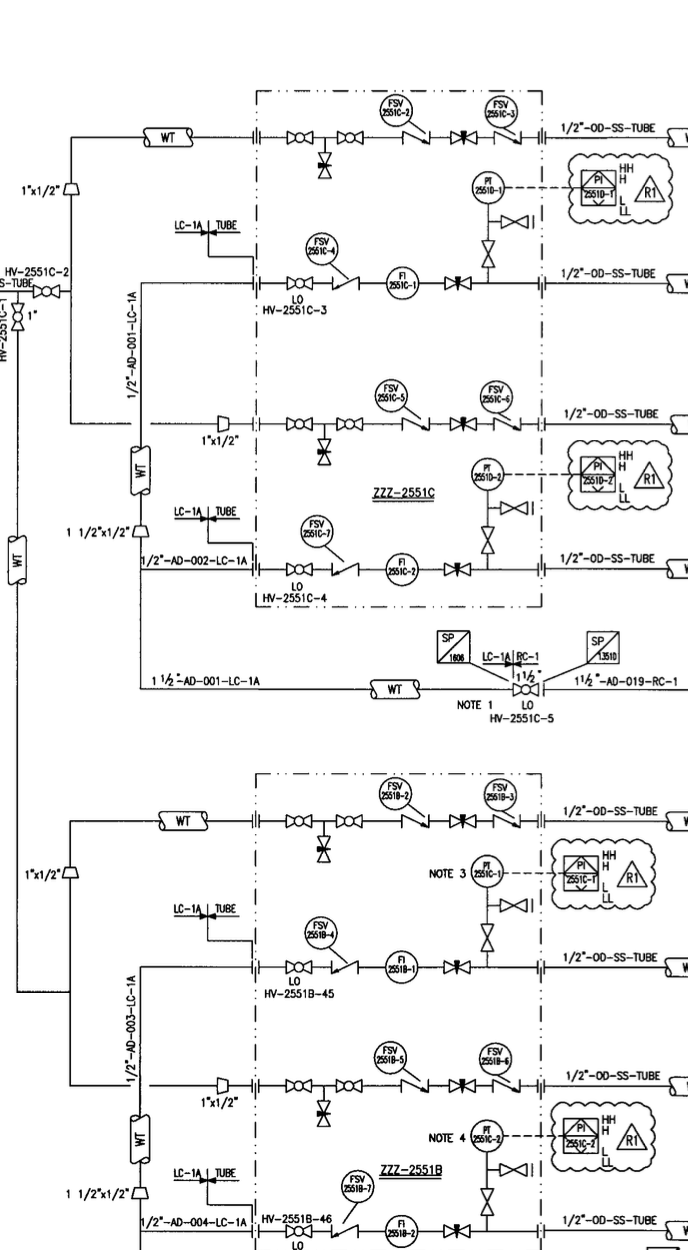Instrument: (362, 374, 417, 415), (472, 372, 521, 417), (469, 451, 512, 496), (371, 91, 422, 128), (295, 508, 336, 550), (470, 165, 510, 206), (469, 849, 508, 891), (478, 94, 525, 128), (483, 776, 523, 814), (301, 230, 340, 268), (383, 264, 423, 301), (385, 548, 421, 589), (477, 1040, 516, 1077), (371, 1037, 408, 1076), (376, 774, 415, 811), (301, 914, 340, 950), (383, 1213, 420, 1250), (381, 948, 421, 982), (340, 1169, 376, 1204), (470, 1117, 504, 1154)
